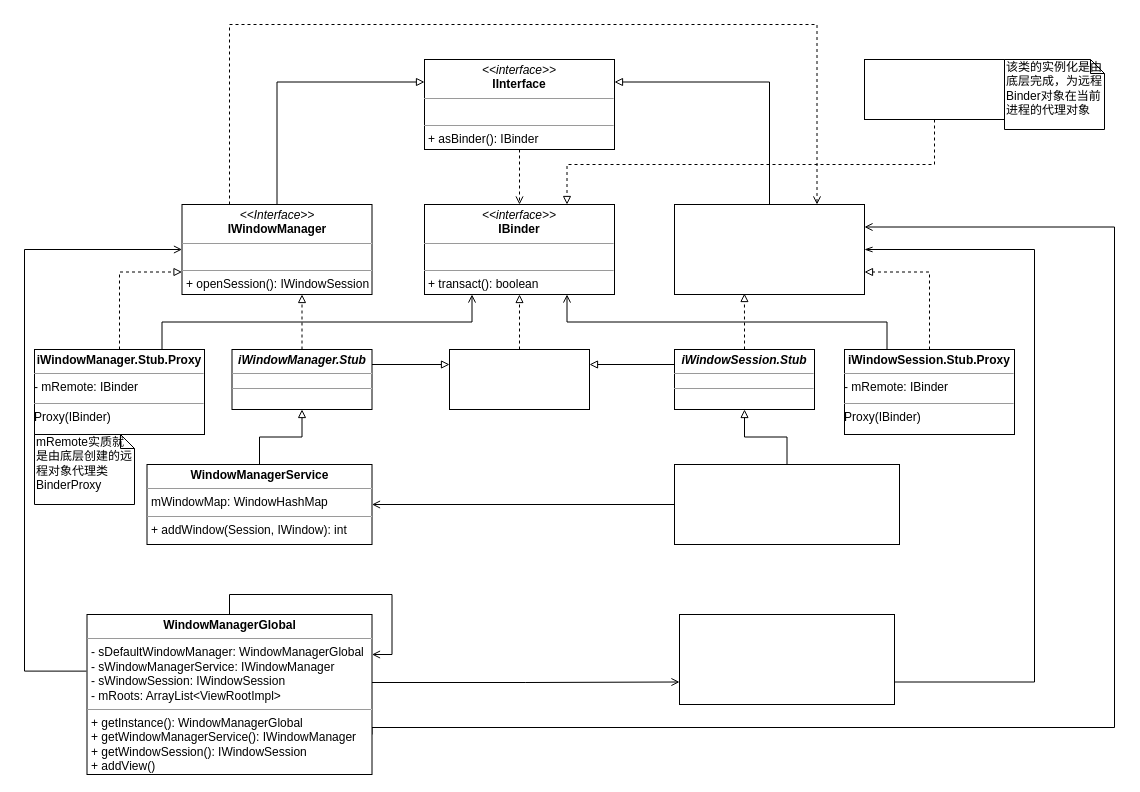
Image size: 1140x792. Some labels were removed from this diagram. The box of each missing label's shape, as (x1, y1, x2, y2) in pixels:
<<Interface>> IWindowSession + addToDisplay(IWindow): int: (674, 204, 864, 294)
Binder # onTransact(): boolean: (448, 348, 590, 410)
BinderProxy: (864, 58, 1004, 120)
Session mService: WindowManagerService + Session(WindowManagerService): (674, 464, 900, 544)
ViewRootImpl mWindowSession: IWindowSession + setView(): (678, 614, 894, 704)
